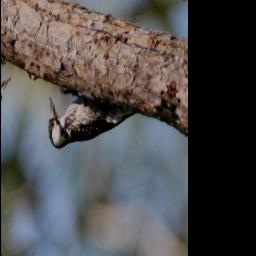Woodpecker: (39, 72, 141, 183)
